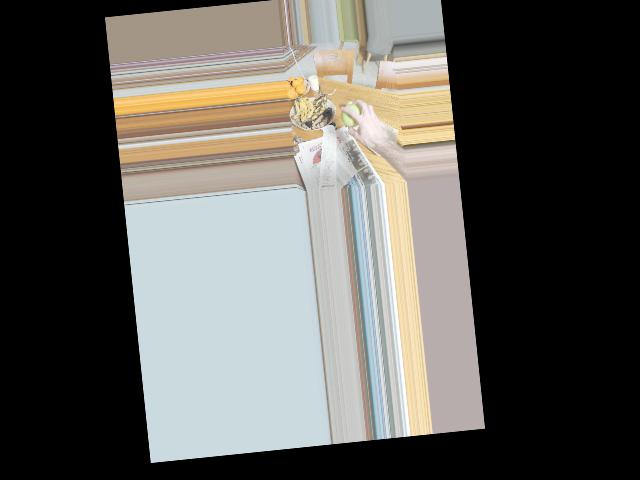apple: (341, 101, 365, 130)
